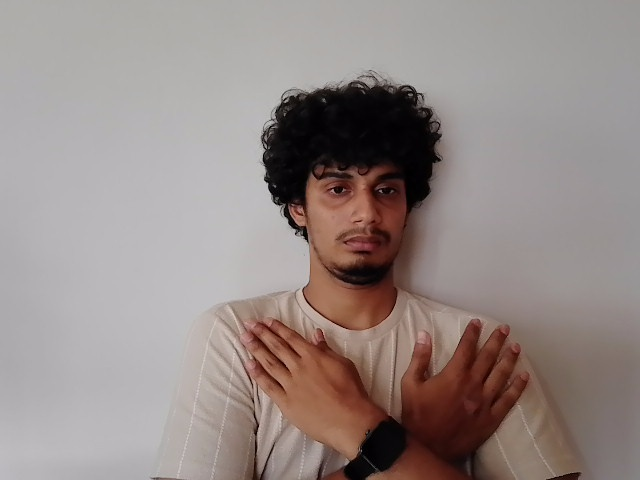relaxing: (239, 316, 537, 449)
